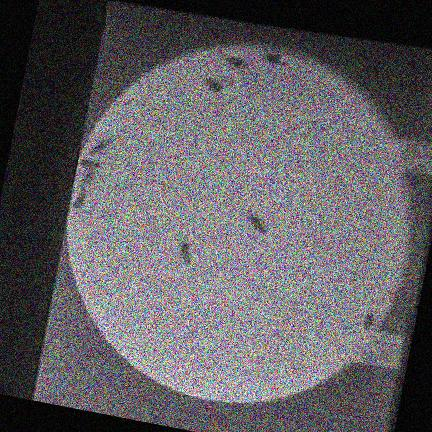fly: (218, 53, 247, 69), (87, 137, 111, 155), (246, 214, 266, 235), (72, 187, 86, 211), (203, 77, 221, 95), (262, 51, 284, 65), (178, 241, 190, 265), (79, 157, 99, 170), (81, 170, 94, 186), (363, 312, 374, 328)
